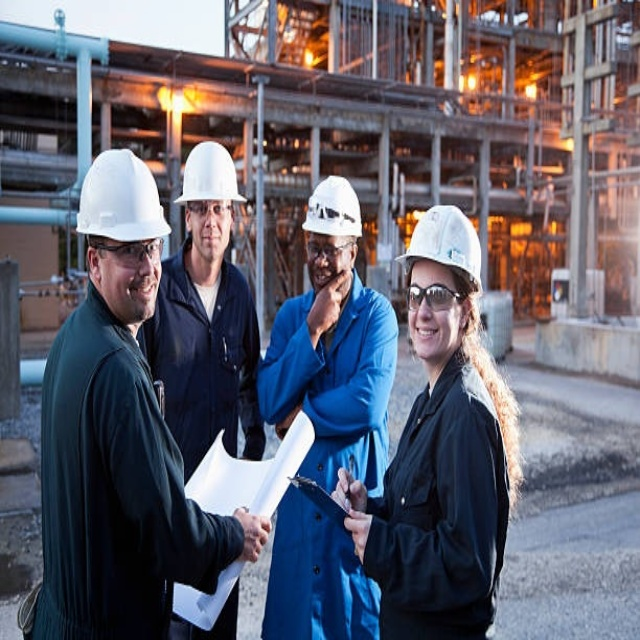Gafas: (93, 235, 165, 260), (406, 278, 462, 306), (187, 201, 236, 216), (304, 240, 353, 253)
Sin_guantes: (232, 507, 272, 564), (307, 284, 344, 334), (332, 466, 367, 518), (341, 506, 374, 560)
Sin_mascara: (123, 275, 160, 312), (413, 317, 447, 351), (200, 231, 225, 249), (311, 268, 333, 285)
